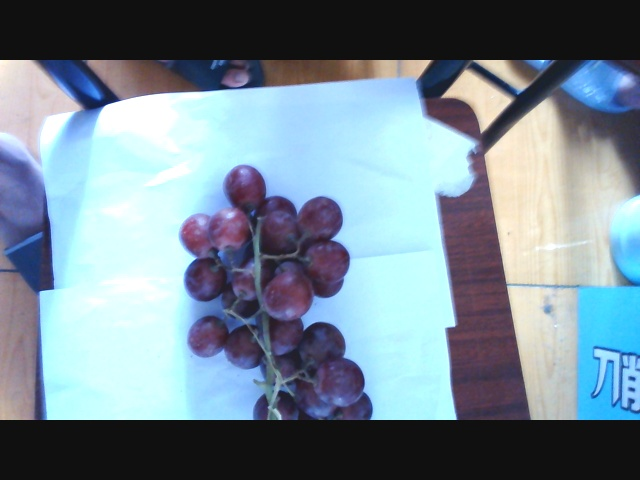grape: (168, 168, 369, 426)
